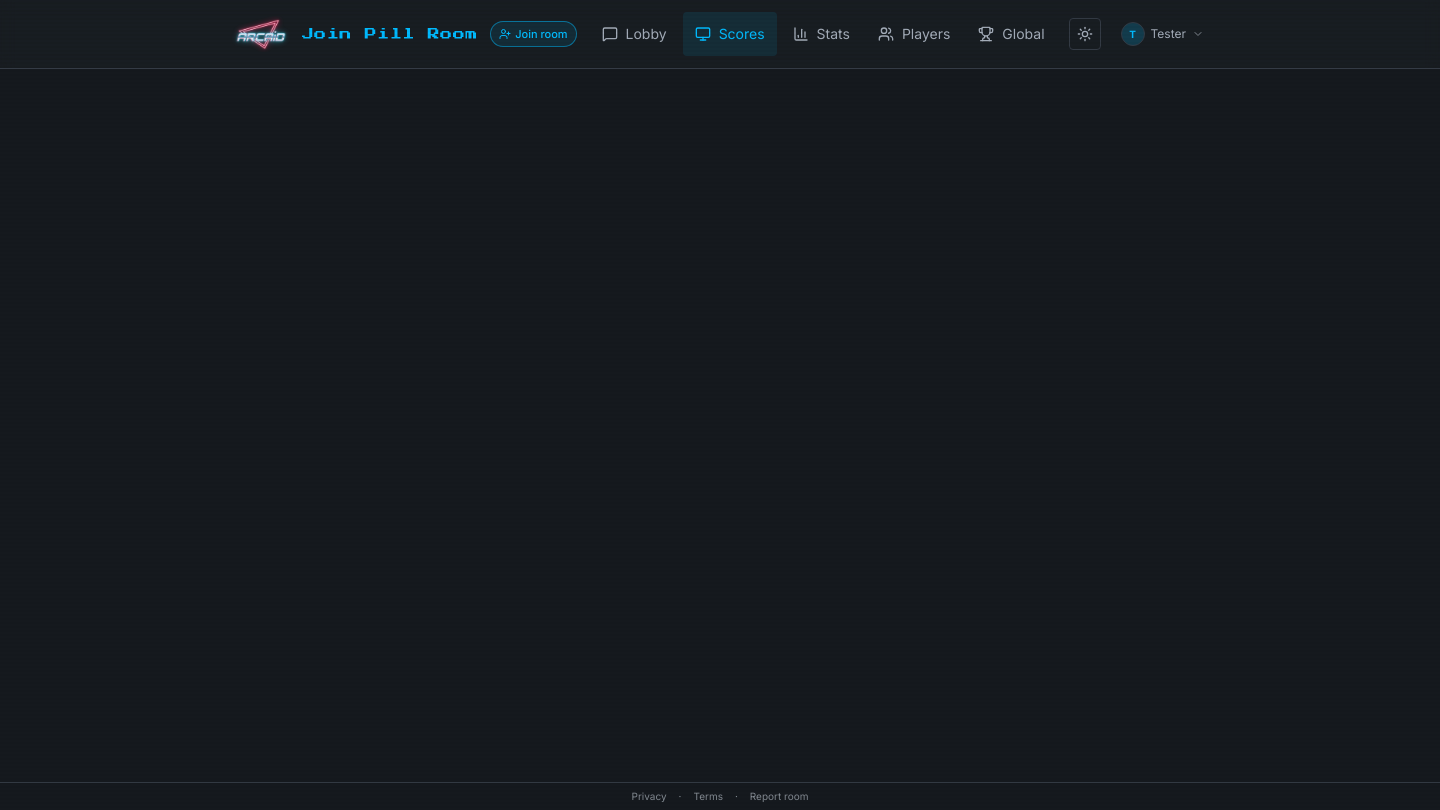
Test case: PublicLayout › nav Join room pill › shows for a signed-in non-member on an open room, and joining removes it
The image size is (1440, 810).
What coordinates should you click on to do the following:
click the button with test id "nav-join-room"
I would click on:
 (533, 34)
Its box is [490,21,577,47].
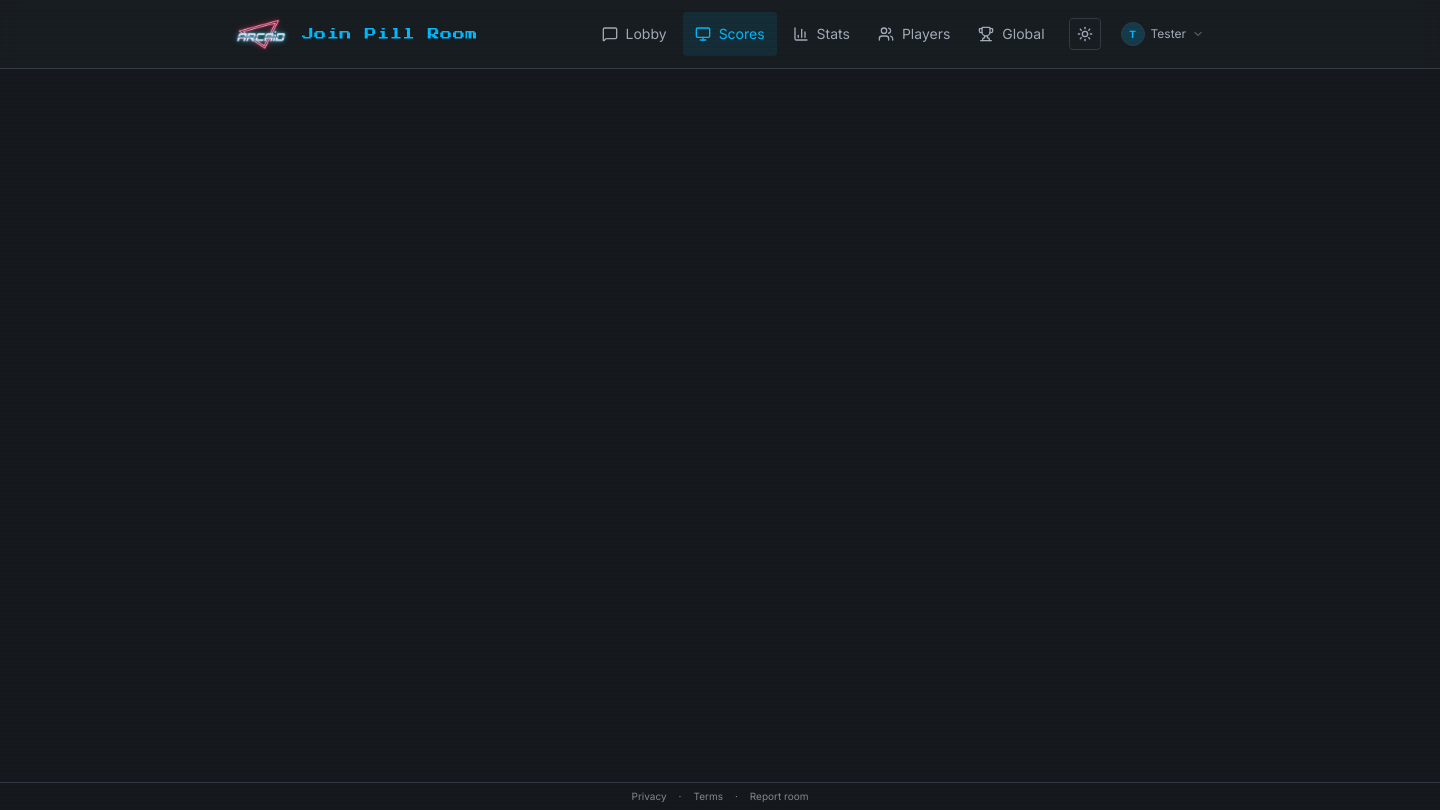
expect the button with test id "nav-join-room" is gone: met
